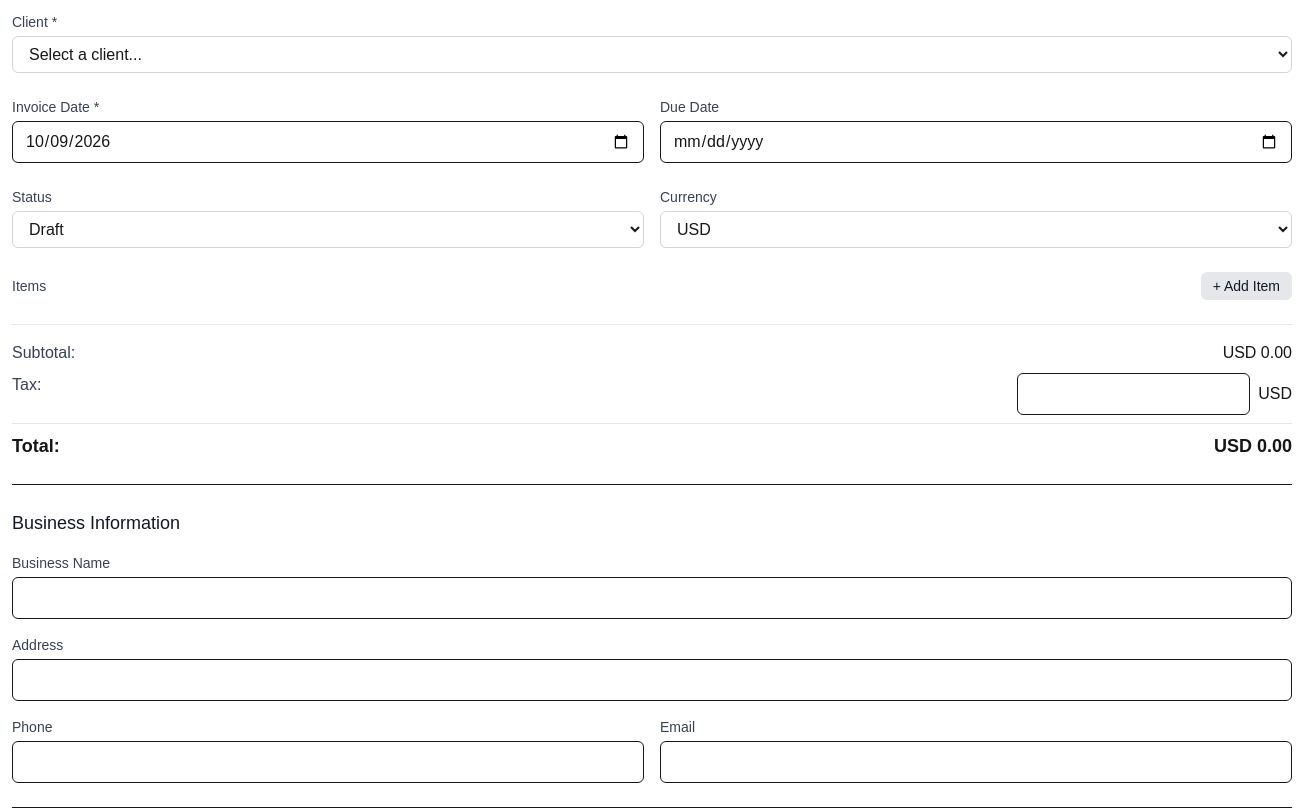
Test case: InvoiceForm › handles image upload
The width and height of the screenshot is (1304, 812).
Click the button "+ Add Item" at (1246, 286), box left=1201, top=272, right=1292, bottom=300
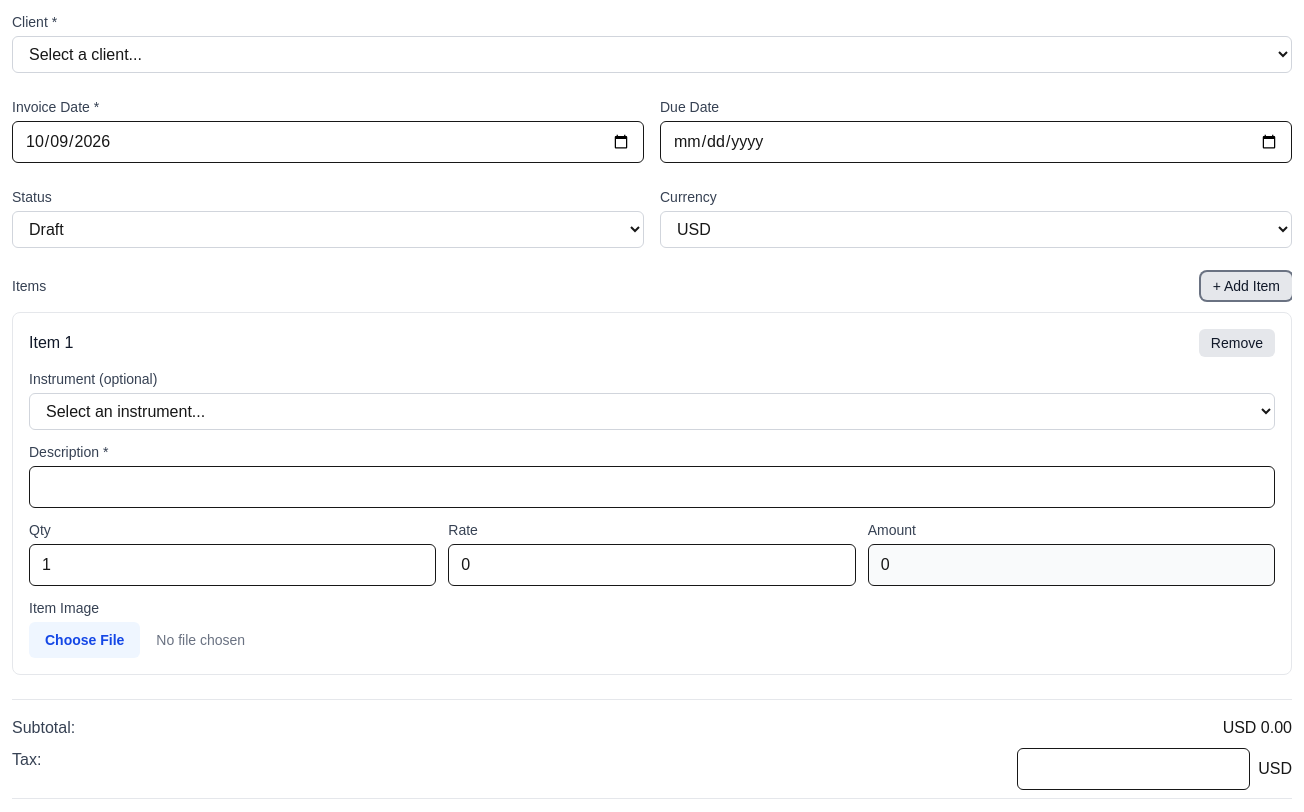
Result: the file field is shown at left=29, top=622, right=1275, bottom=658
